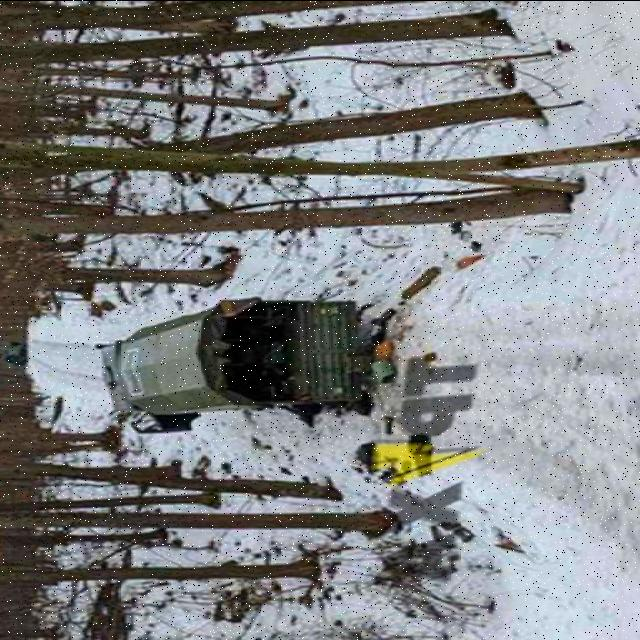TRUCK: (78, 288, 378, 446)
